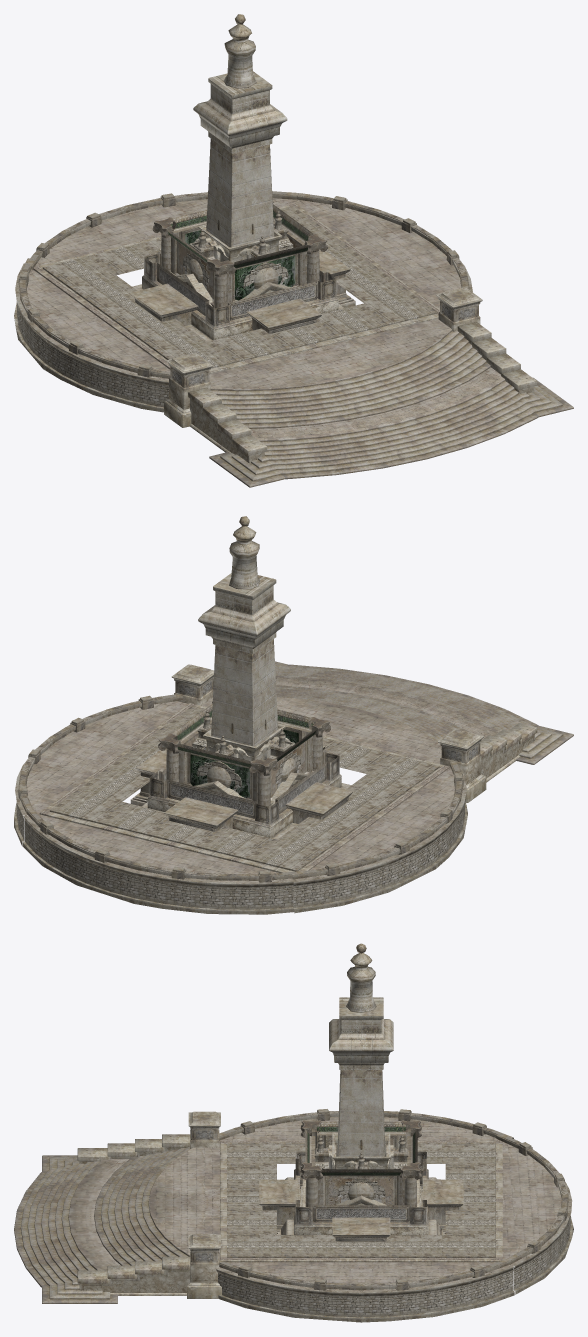
File: Center.fbx
The picture shows the model from 3 angles, top to bottom: view 1: azimuth 30°, elevation 25°; view 2: azimuth 150°, elevation 25°; view 3: azimuth 270°, elevation 25°; orthographic projection. The views are drawn at different scales.
Parts seen in each view (by area): view 1: LV_Spechia_City_VMStairA_SM_MIN; view 2: LV_Spechia_City_VMStairA_SM_MIN; view 3: LV_Spechia_City_VMStairA_SM_MIN.
Part boxes in pixels (box(x1,y1,x2,y2)): LV_Spechia_City_VMStairA_SM_MIN: box(14, 14, 573, 487); LV_Spechia_City_VMStairA_SM_MIN: box(14, 516, 573, 914); LV_Spechia_City_VMStairA_SM_MIN: box(14, 943, 573, 1322).
Bounding box in the file's own units: 10.06 × 7.43 × 13.15.
24 materials, 21 textured.
